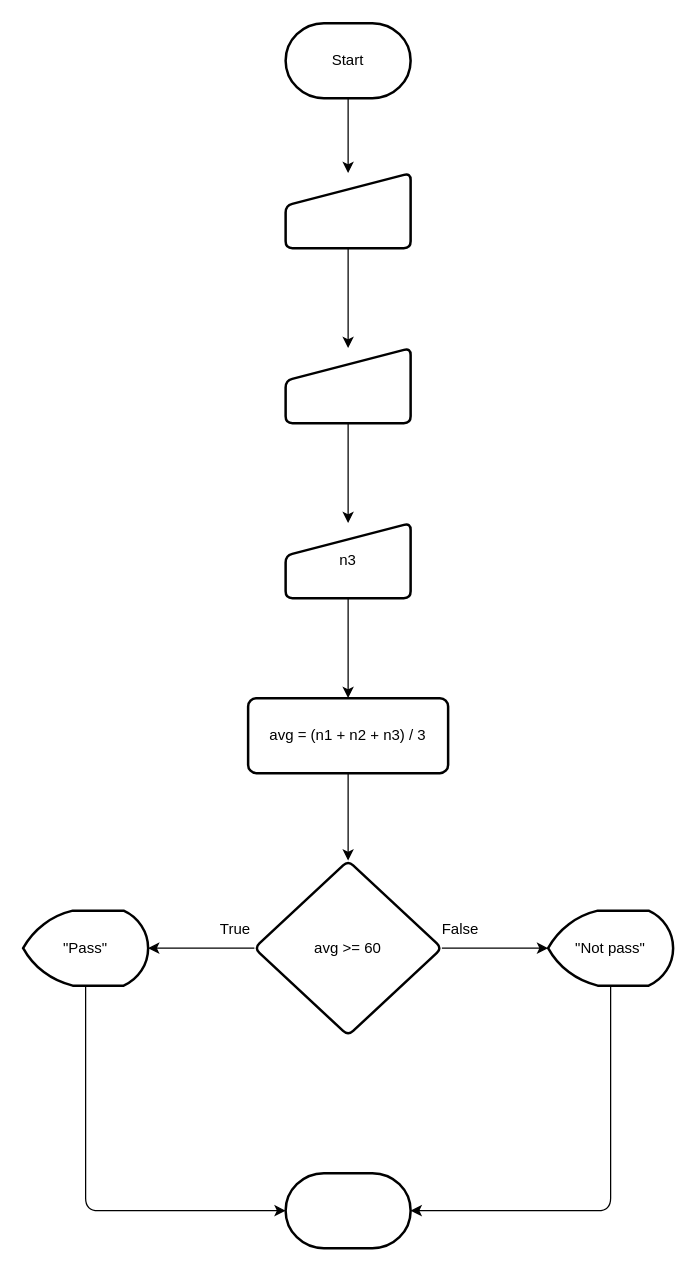
This 695x1270 diagram has some shape labels left out. The shapes that lost their labels are listed below. From the top down, each one's centre as x and y in pixels, then its label:
At point 347,210: "n1".
At point 347,385: "n2".
At point 347,1210: "End".
